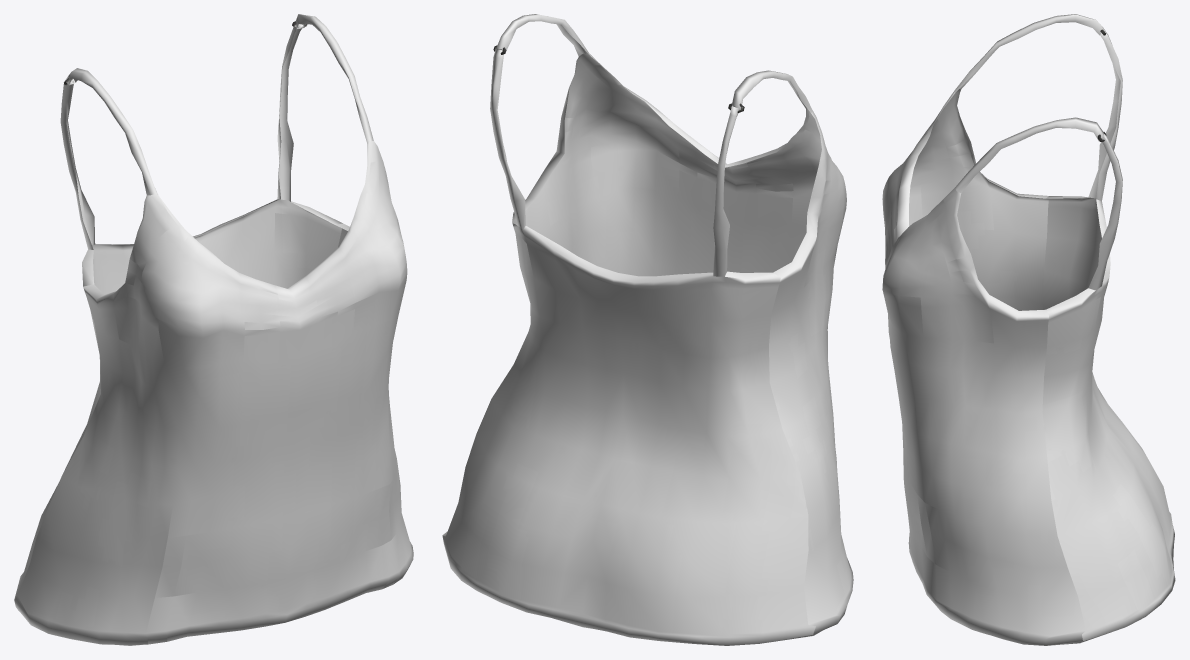
Rendered from punkduck-v-neck-top.glb.
3 renders of one model, left to right at view 1: azimuth 30°, elevation 25°; view 2: azimuth 150°, elevation 25°; view 3: azimuth 270°, elevation 25°, orthographic. The views are drawn at different scales.
Visible parts, largest first — view 1: v neck top; view 2: v neck top; view 3: v neck top.
Boxes of the visible parts, x1=… form: v neck top: x1=14, y1=14, x2=413, y2=645; v neck top: x1=442, y1=14, x2=853, y2=645; v neck top: x1=882, y1=14, x2=1175, y2=645.
Size of the model in its own units: 38.34 by 52.2 by 27.82.
1 material, 1 textured.
